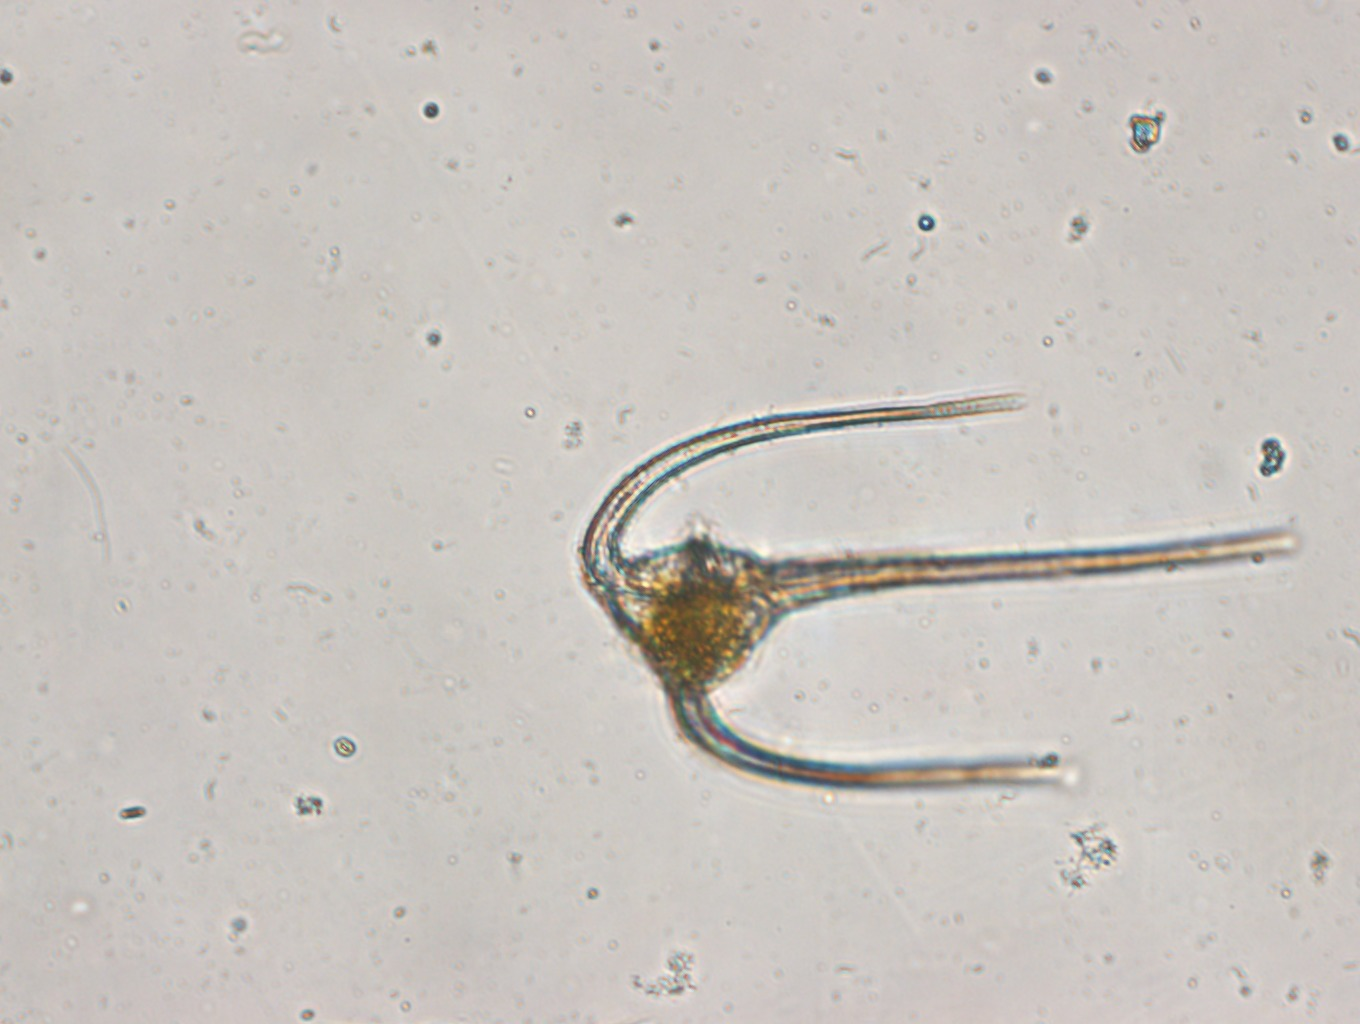ceratium trichoceros: (562, 387, 1307, 800)
